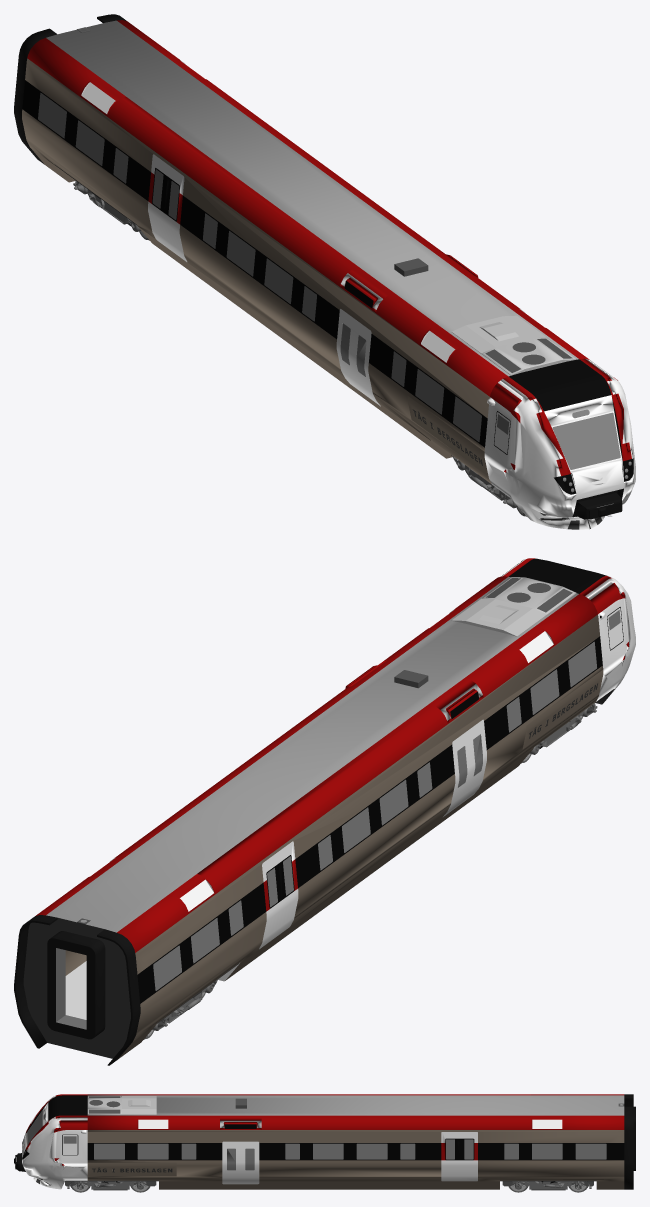
Rendered from ReginaTren_car1.gltf.
3 renders of one model, top to bottom at view 1: azimuth 30°, elevation 25°; view 2: azimuth 150°, elevation 25°; view 3: azimuth 270°, elevation 25°, orthographic. The views are drawn at different scales.
Parts seen in each view (by area): view 1: Sketchup; view 2: Sketchup; view 3: Sketchup.
Boxes of the visible parts, x1,y1,x2,y2 form: Sketchup: [14, 14, 635, 529]; Sketchup: [14, 558, 635, 1065]; Sketchup: [14, 1094, 635, 1192].
Size of the model in its own units: 3.45 by 4.01 by 26.99.
